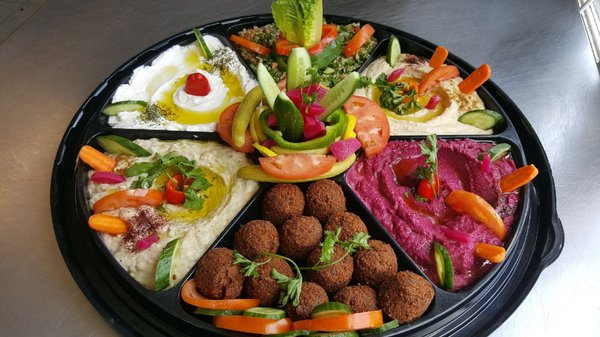curry: (270, 0, 324, 47)
